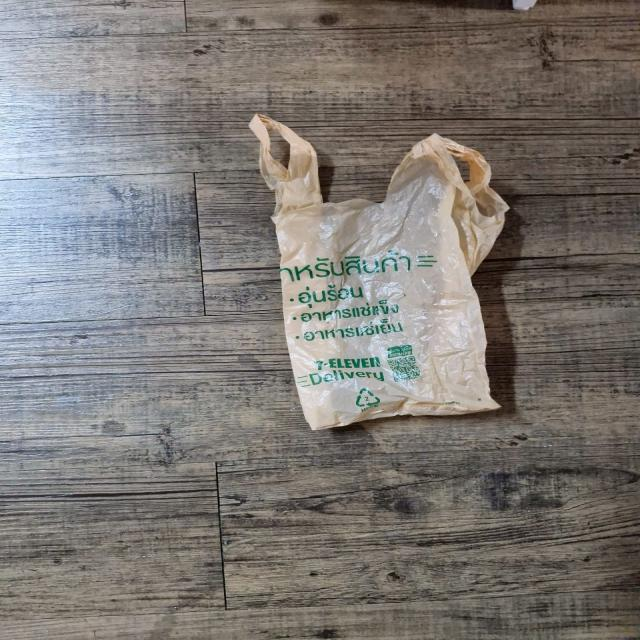plastic bag: (251, 112, 509, 426)
